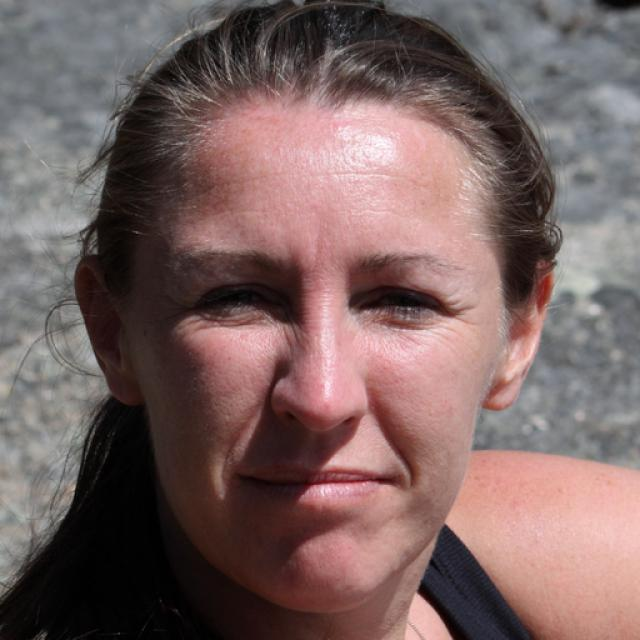happy: (135, 82, 505, 606)
